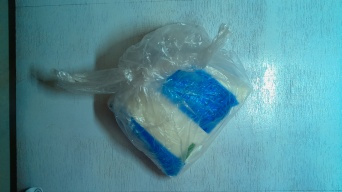m: (119, 44, 251, 177)
